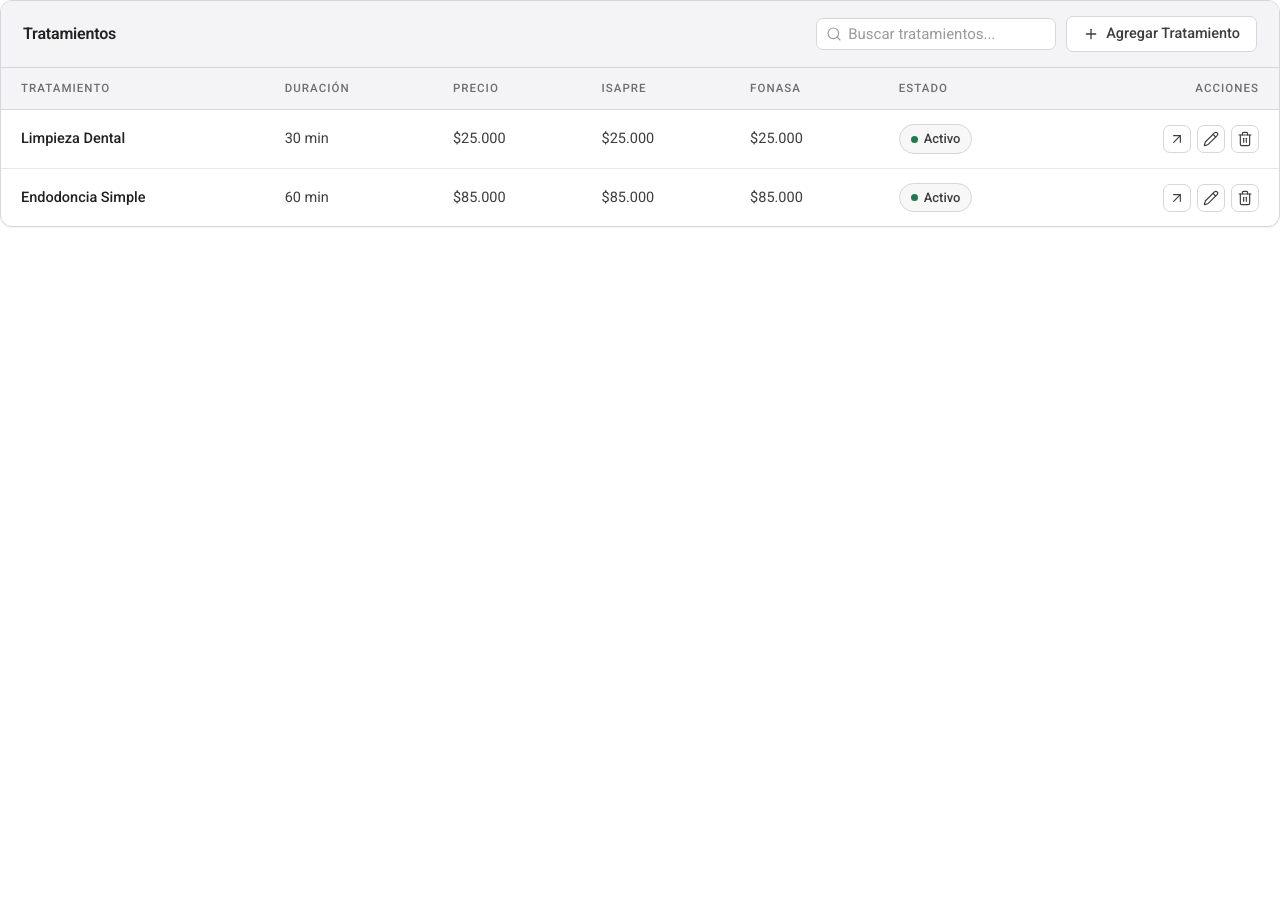
Test: TreatmentsManager — CRUD & Medical Autocomplete Integration › fills name and description automatically when selecting a result from the encyclopedia search
Click the button "Agregar Tratamiento" at (1162, 34), box [1066,16,1257,52]
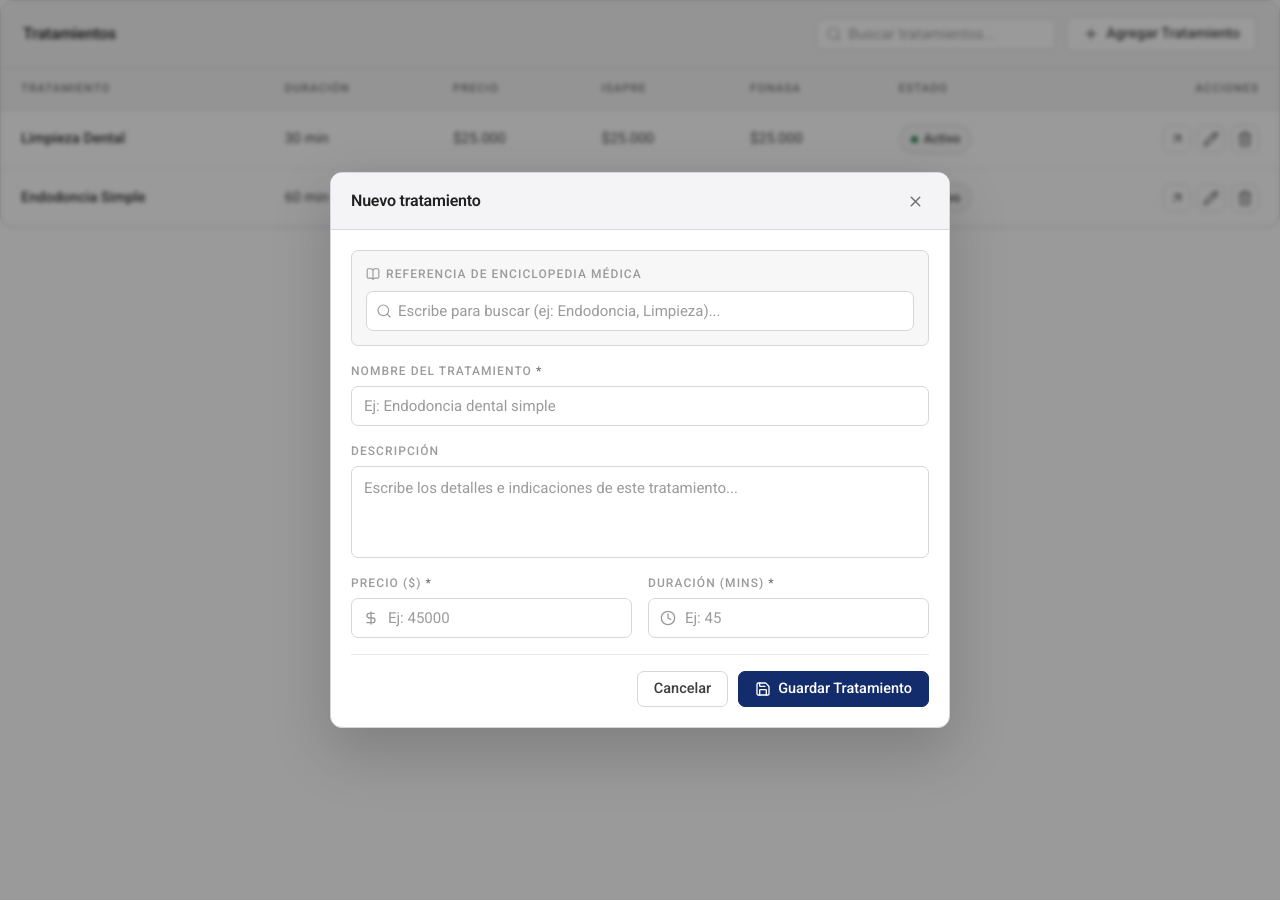
Type "Endo" into the field with placeholder "Escribe para buscar (ej: Endodoncia, Limpieza)..." at (640, 311), box [366,291,914,331]
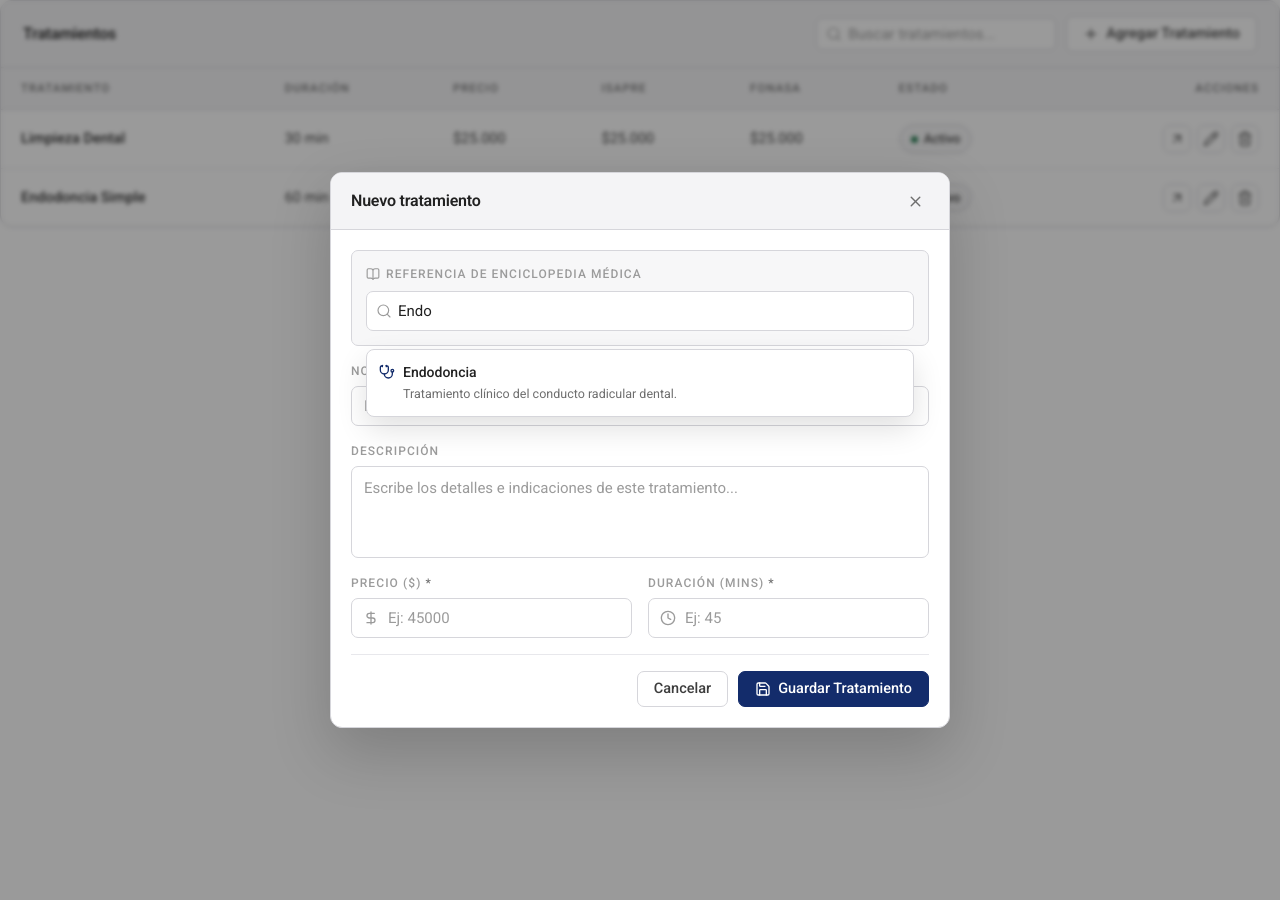
Expected: the button "Endodoncia" is shown
// Click suggestion
Click the button "Endodoncia" at (440, 372), box [367,350,913,416]
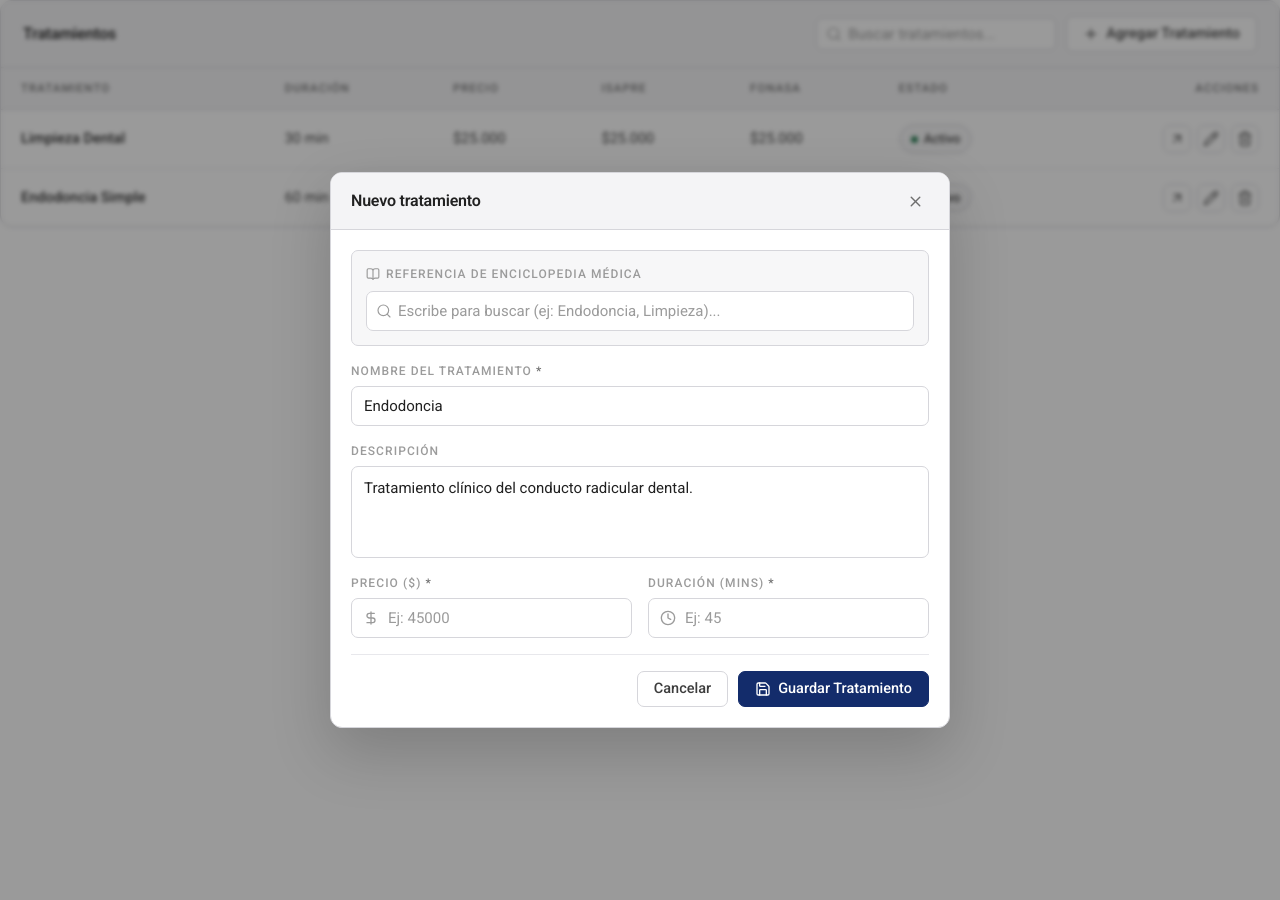
Expected: the field labelled "Nombre del tratamiento *" holds "Endodoncia", [351,386,929,426]
Expected: the text box with placeholder "Escribe los detalles e indicaciones de este tratamiento..." holds "Tratamiento clínico del conducto radicular dental.", [351,466,929,558]
